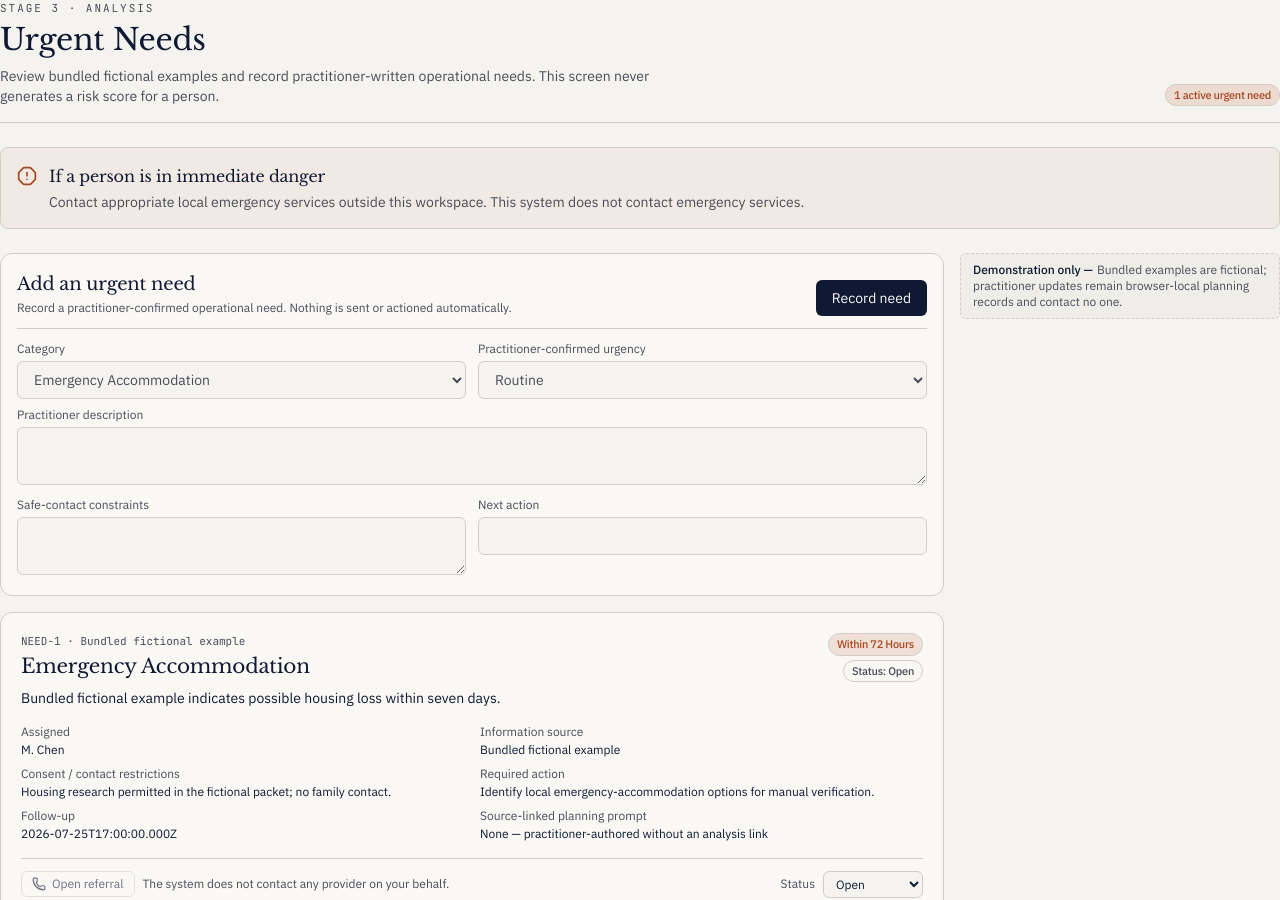
Test: planning workspaces › records an Urgent Need in canonical browser-session state
Expected: the heading "Urgent Needs" is shown, [0,20,206,58]
Type "Needs a safe callback window." into the text box labelled "Practitioner description" at [472, 456], box [17,427,927,485]
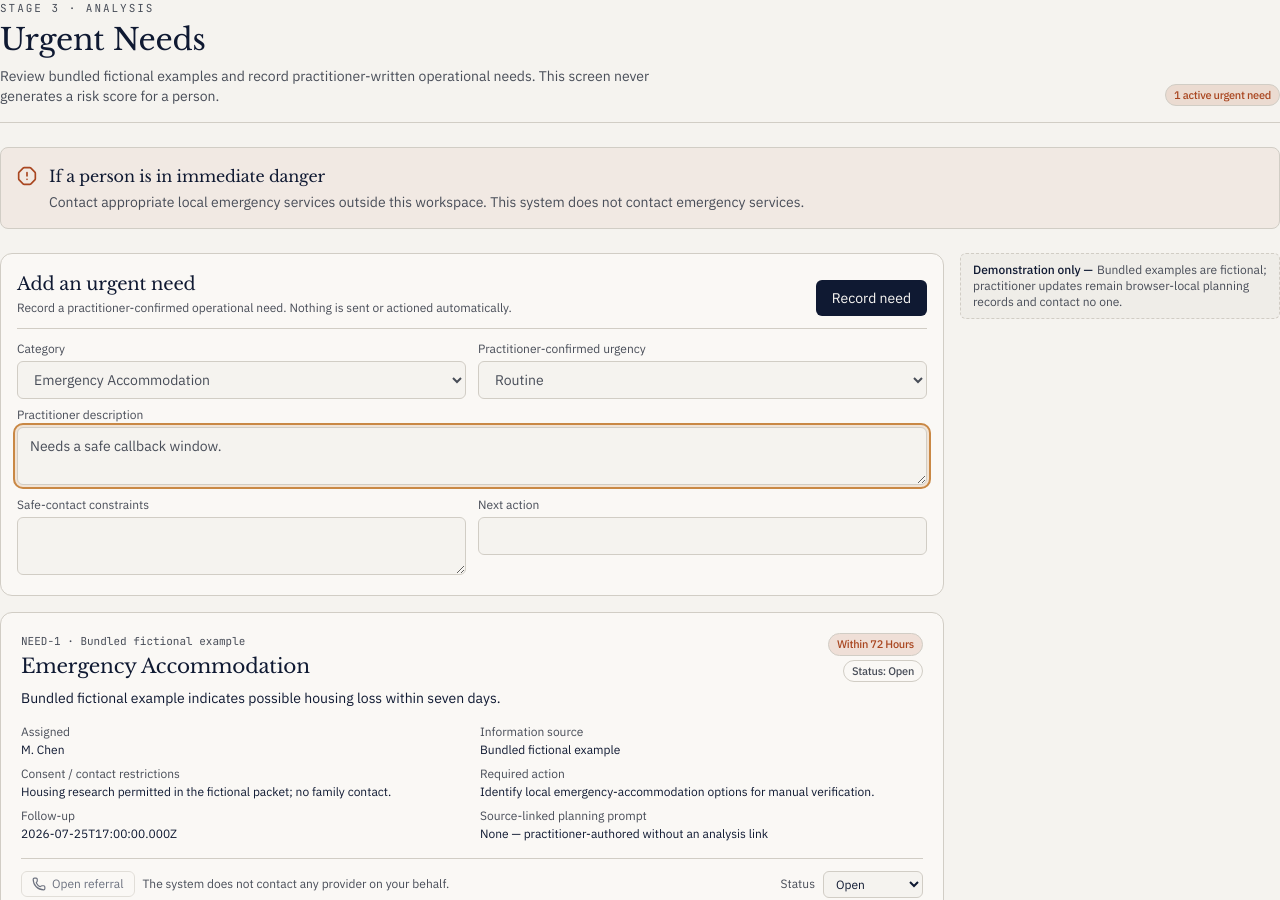
Type "SMS only after 10:00." into the text box labelled "Safe-contact constraints" at [242, 546], box [17,517,466,575]
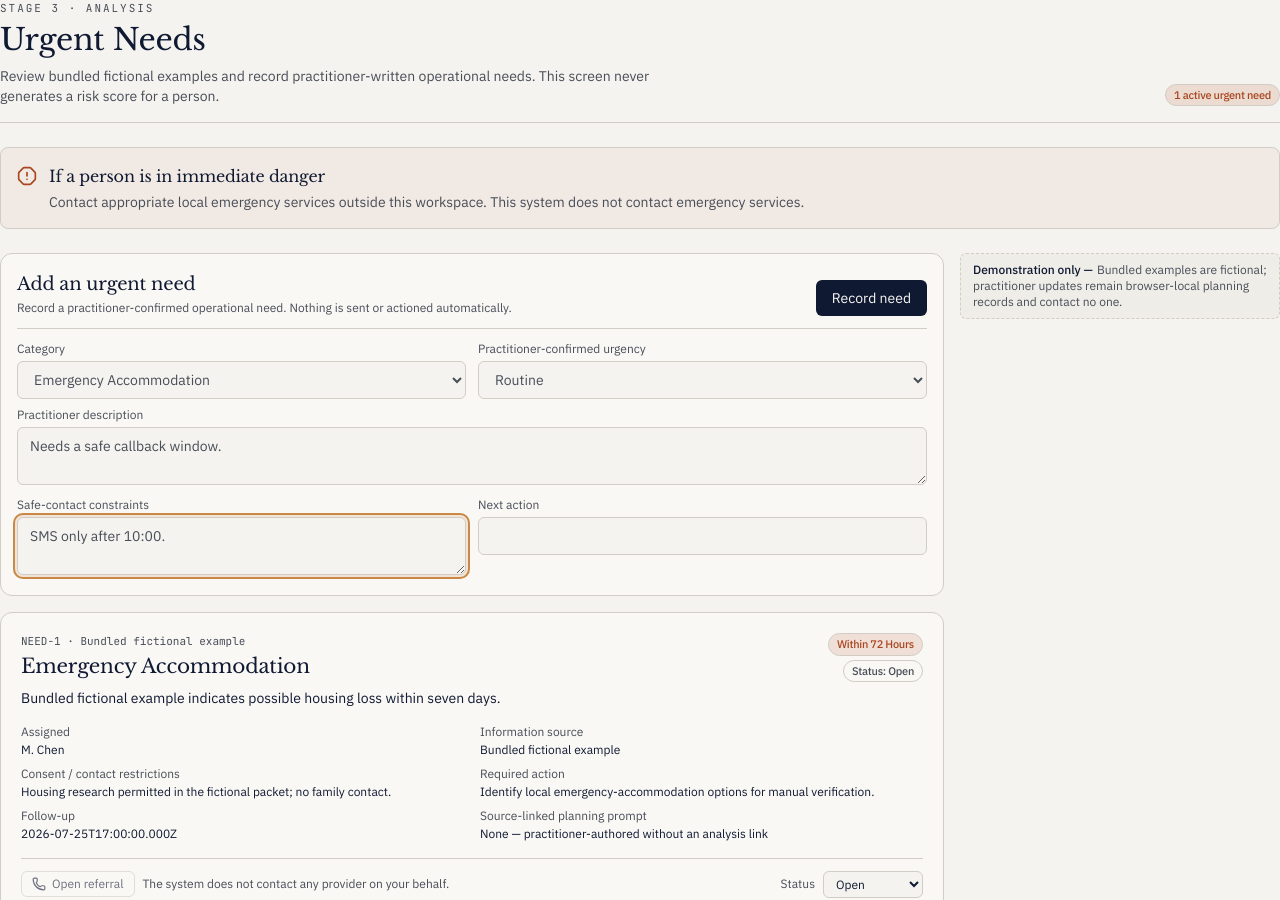
Type "Confirm a safe-contact plan." into the field labelled "Next action" at [702, 536], box [478,517,927,555]
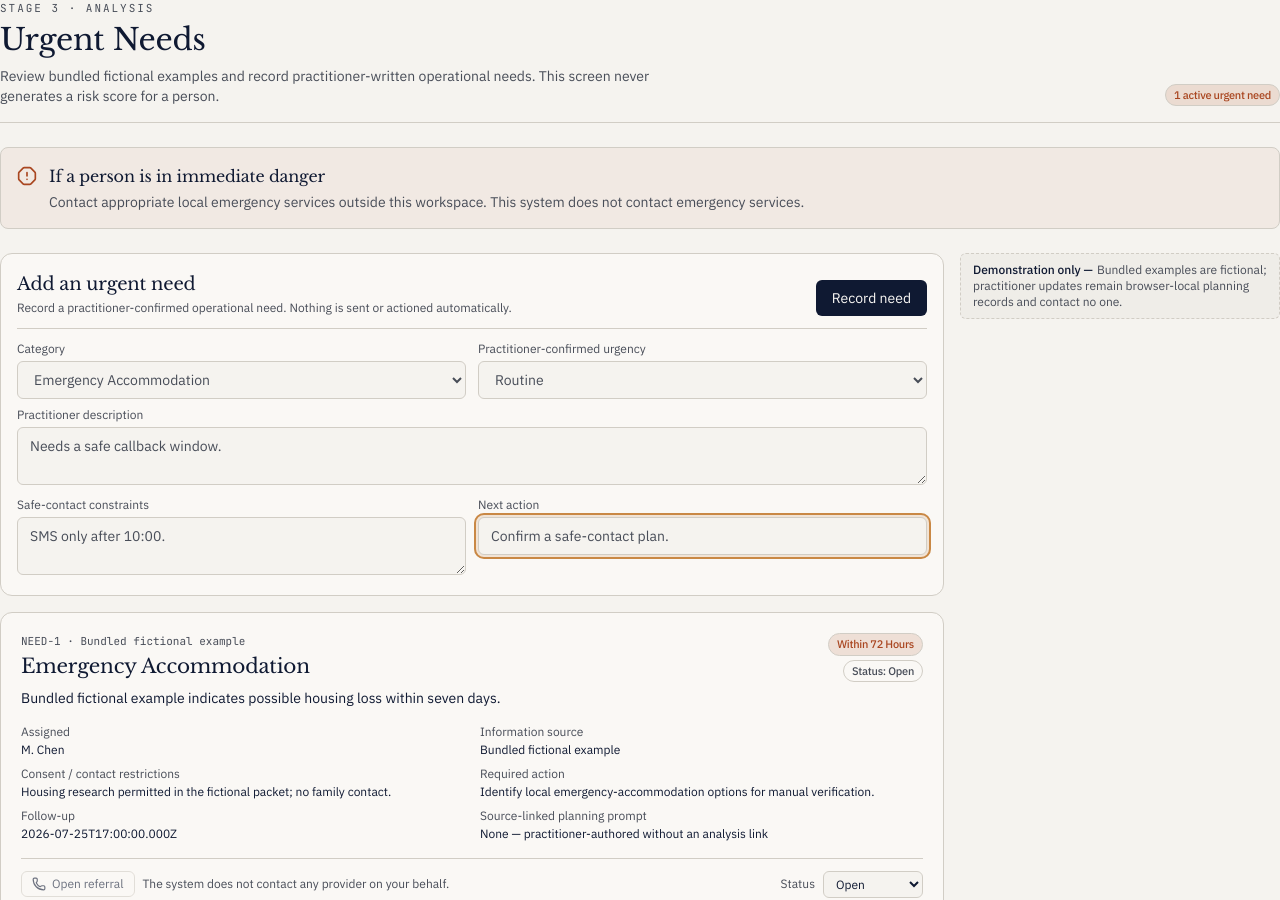
Click the button "Record need" at [871, 298], box [816,280,927,316]
(page scrolled)
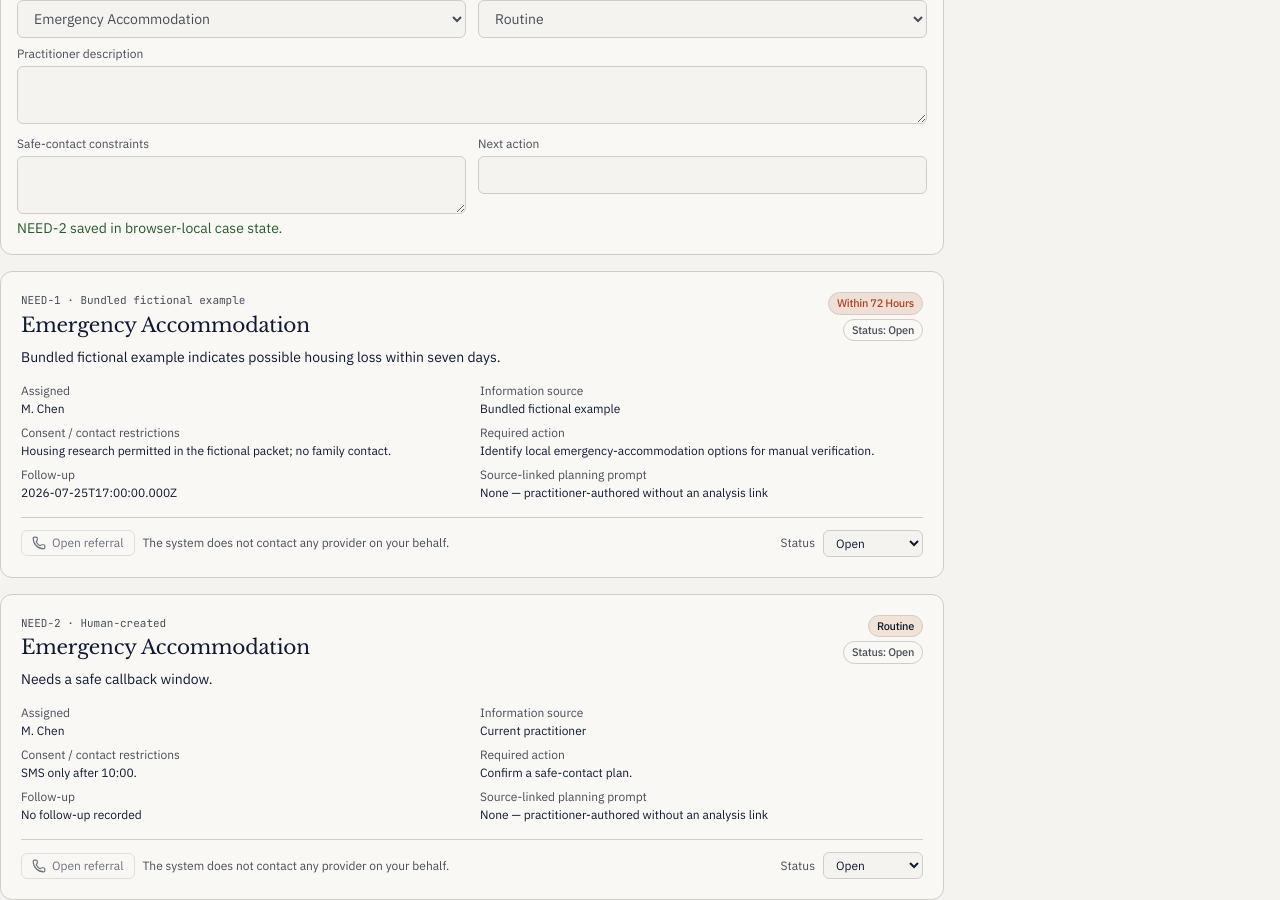
Expected: the text "NEED-2 saved in browser-local case state." is shown, [17,219,282,237]
Expected: the text "Confirm a safe-contact plan." is shown, [480,765,632,780]
